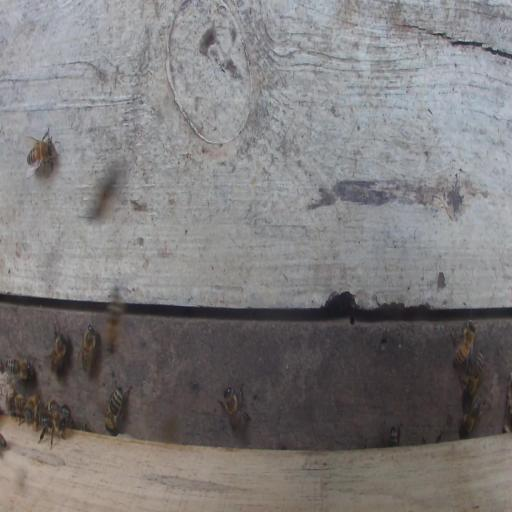nonpollenbee: (103, 290, 125, 355), (37, 405, 69, 448), (105, 385, 131, 431), (46, 322, 67, 373), (462, 350, 484, 398), (454, 320, 475, 368), (460, 394, 483, 437), (224, 385, 244, 433), (81, 323, 96, 374), (5, 356, 33, 380), (26, 142, 52, 165), (24, 394, 40, 424), (9, 392, 25, 418), (388, 423, 402, 447), (0, 433, 6, 448)
